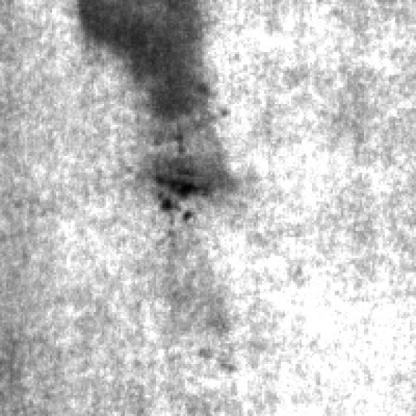inclusion: (152, 152, 210, 229)
patches: (77, 4, 216, 129)
